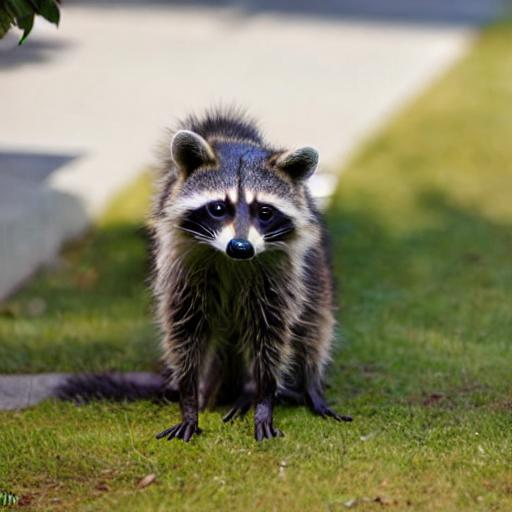raccoon: (148, 122, 342, 398)
